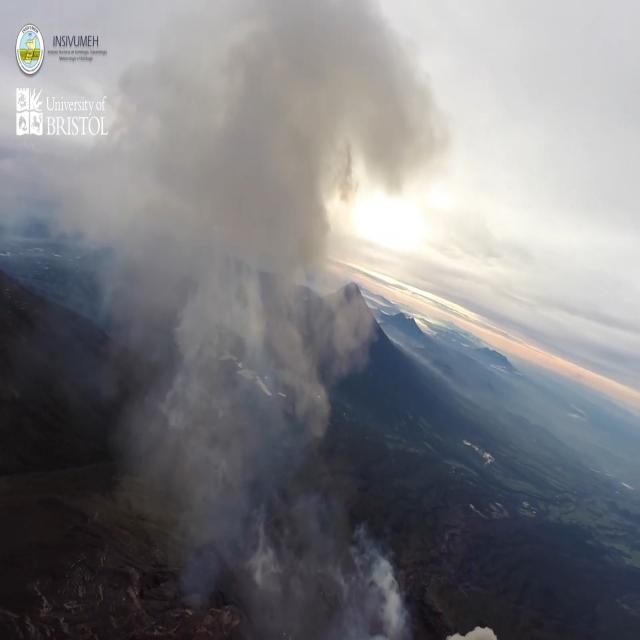Plume: (108, 1, 451, 443)
